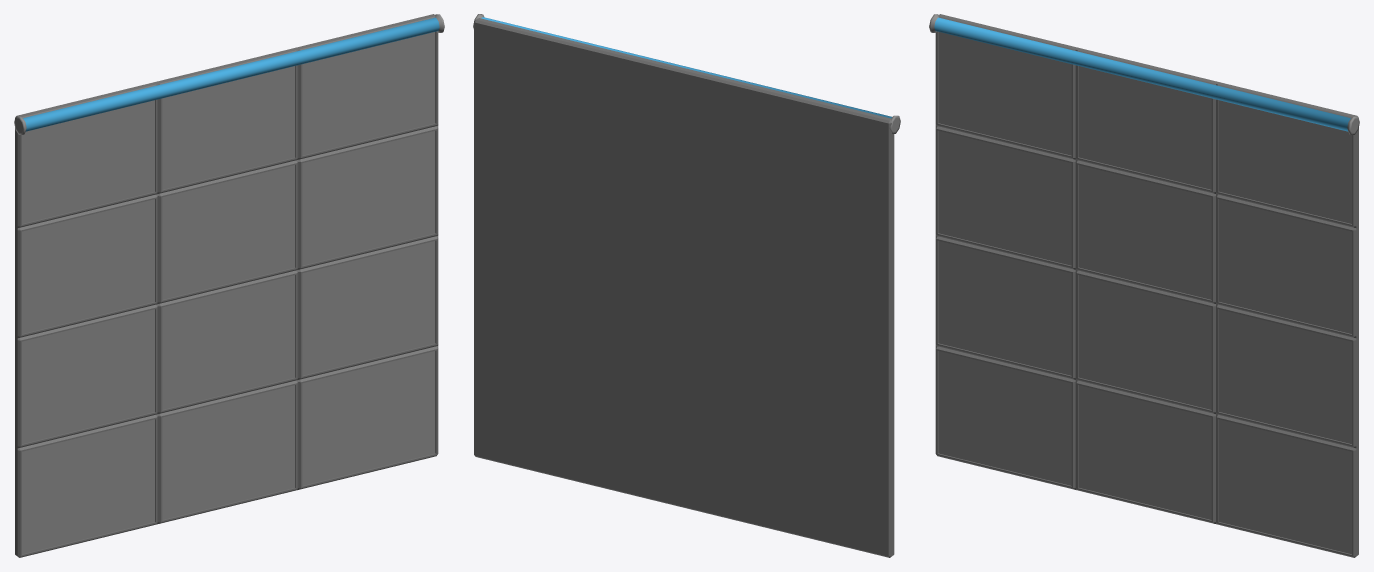
Rendered from wall_and_pipe.fbx.
3 renders of one model, left to right at view 1: azimuth 30°, elevation 25°; view 2: azimuth 150°, elevation 25°; view 3: azimuth 330°, elevation 25°, orthographic.
Parts seen in each view (by area): view 1: wall, pipe; view 2: wall, pipe; view 3: wall, pipe.
Part boxes in pixels (bbox=[...]): wall: bbox=[15, 14, 438, 557]; pipe: bbox=[14, 14, 444, 134]; wall: bbox=[474, 18, 894, 557]; pipe: bbox=[473, 14, 900, 133]; wall: bbox=[935, 14, 1358, 557]; pipe: bbox=[929, 14, 1359, 134].
Size of the model in its own units: 1000 by 1005 by 42.4.
